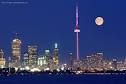moon: (94, 15, 105, 27)
